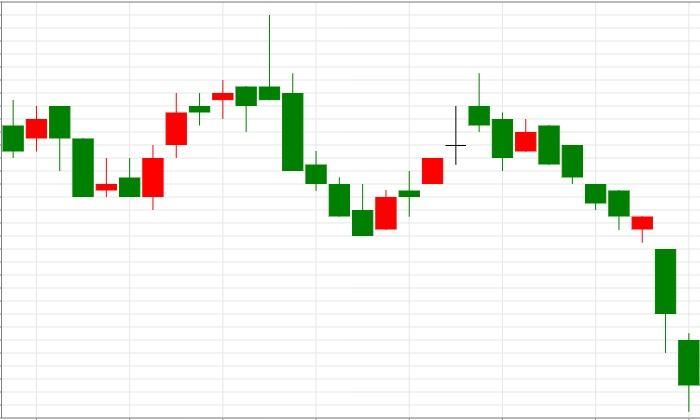shooting_star_fall: (142, 14, 280, 210), (376, 73, 491, 231)
